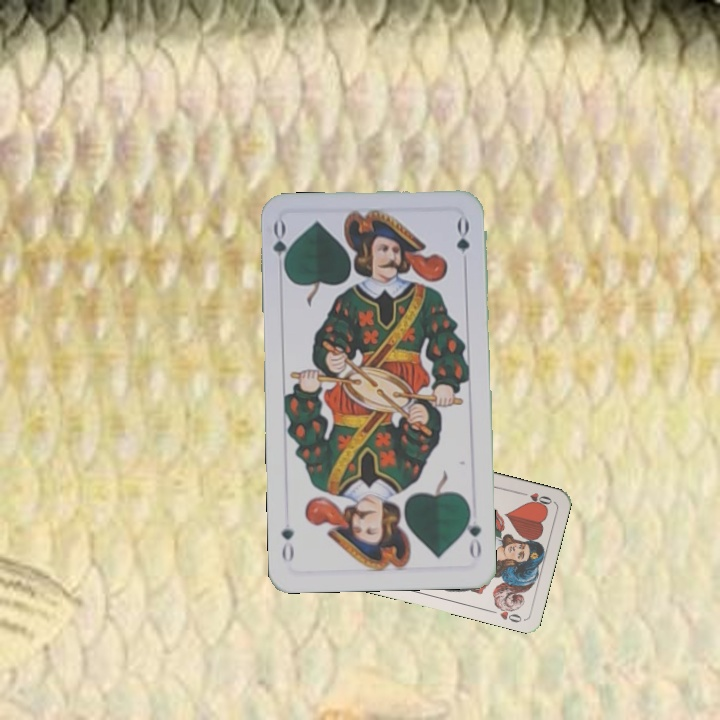GO: (269, 218, 294, 277), (460, 503, 484, 561)
HO: (515, 488, 555, 509)
